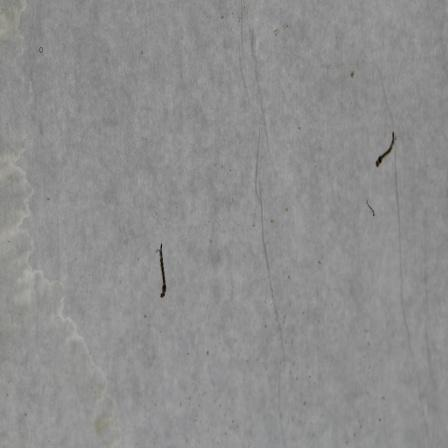Jentik-Nyamuk: (372, 130, 398, 168), (154, 240, 170, 301)
